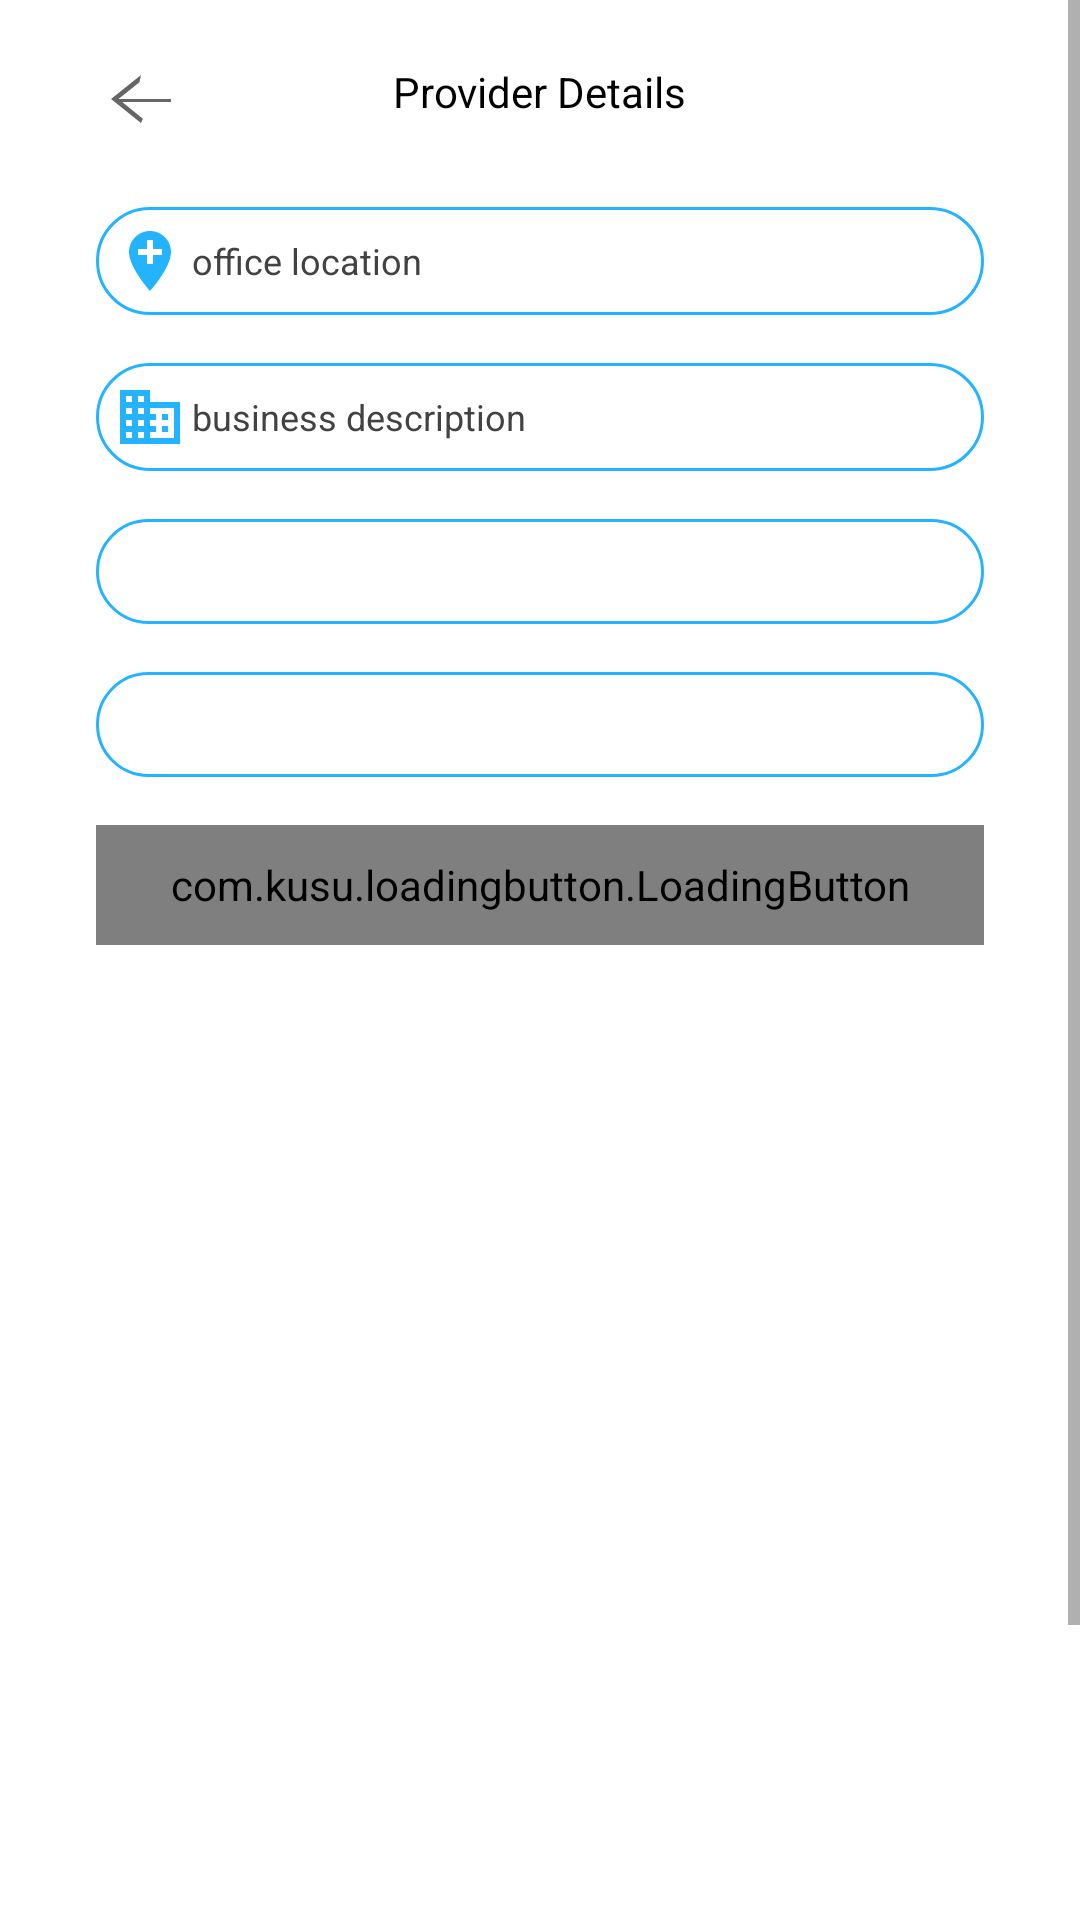

Icons on this 1080×1920 Android screen, each with its box as BBox(x1, y1, x2, y2):
back arrow: BBox(111, 75, 171, 123)
